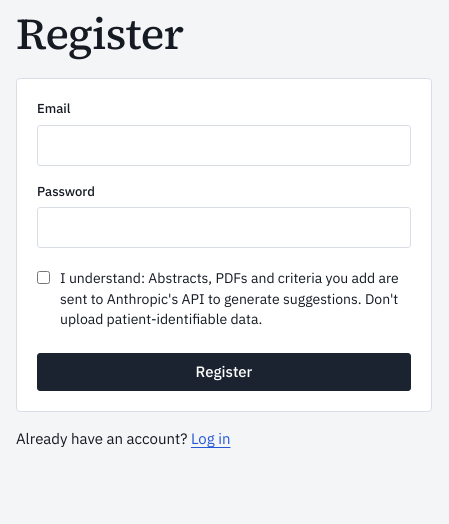
Test case: RegisterPage › does not register until the AI disclosure is accepted
The width and height of the screenshot is (449, 524).
Type "reviewer@example.com" into the field labelled "Email". click: point(224, 145)
box: top-left (37, 125), bottom-right (411, 166)
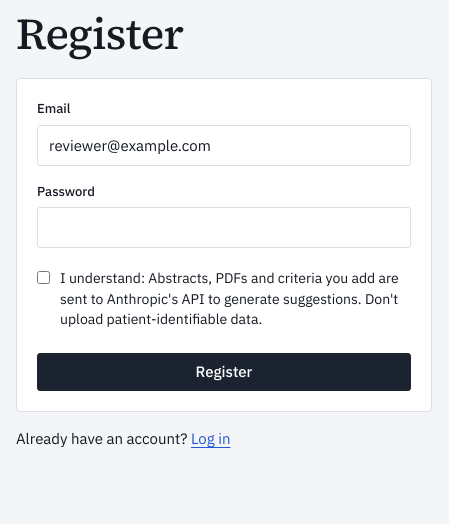
Type "correcthorse" into the password field labelled "Password". click: point(224, 228)
box: top-left (37, 207), bottom-right (411, 248)
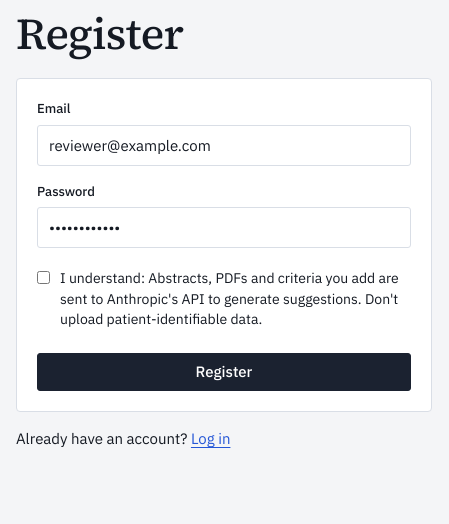
Click the button "Register". click: point(224, 372)
box: top-left (37, 353), bottom-right (411, 391)
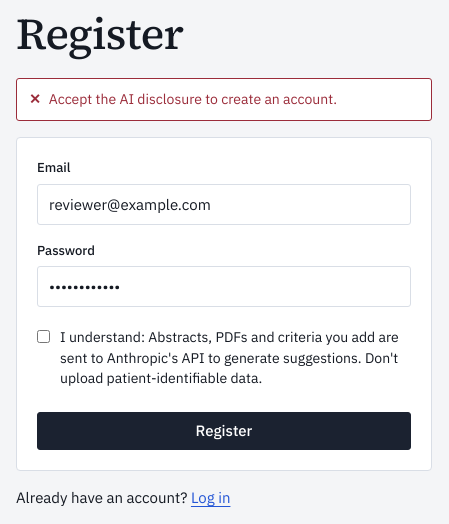
Now the message shows "Accept the AI disclosure", box top-left (49, 90), bottom-right (337, 108)
